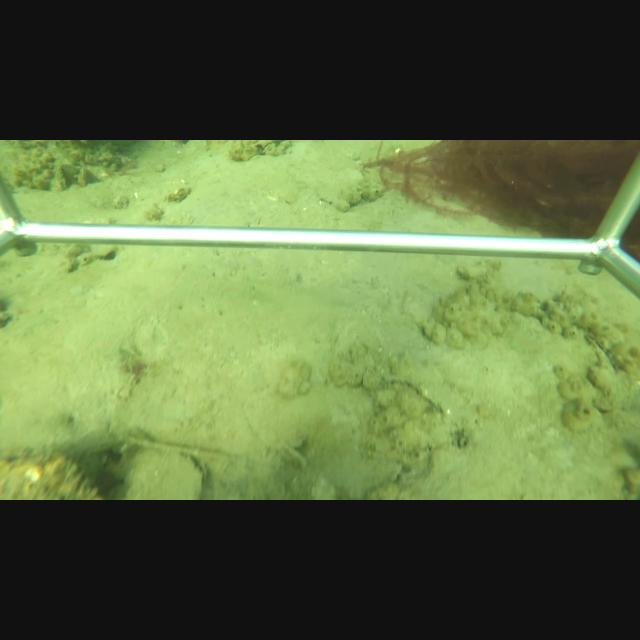Oyster-Closed: (117, 444, 211, 499)
